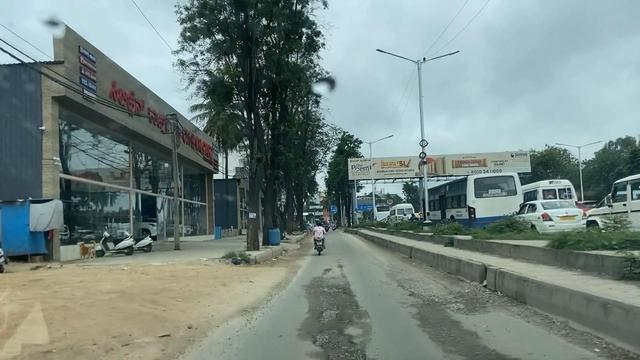RoadDamages: (304, 272, 368, 360), (397, 268, 486, 311), (422, 323, 500, 360)
